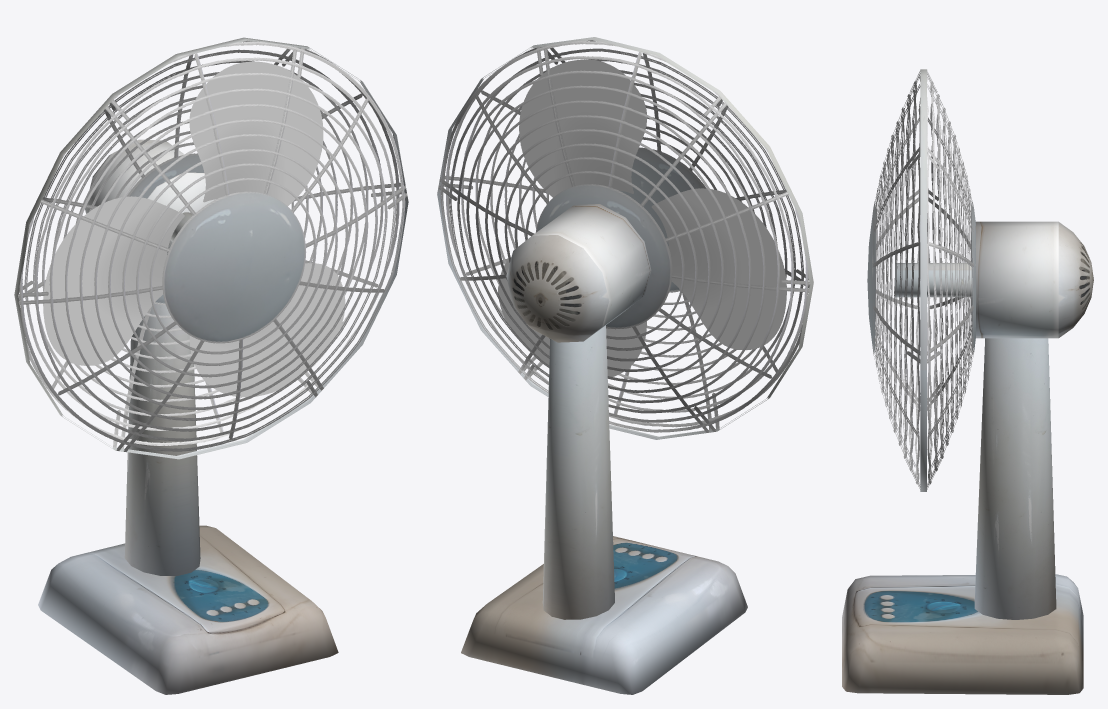
Rendered from fan_des.FBX.
3 views of the same model, side by side, from view 1: azimuth 30°, elevation 25°; view 2: azimuth 150°, elevation 25°; view 3: azimuth 270°, elevation 25° (orthographic). The views are drawn at different scales.
Parts seen in each view (by area): view 1: Object, Box003, Box004, OilTank004, Cylinder003, OilTank003; view 2: OilTank004, Box003, Box004, Cylinder003, Object, OilTank003; view 3: Box004, Cylinder003, OilTank004, OilTank003, Object, Cylinder004.
Boxes of the visible parts, bbox=[...] form: Object: bbox=[17, 41, 407, 451]; Box003: bbox=[43, 61, 345, 397]; Box004: bbox=[38, 525, 338, 694]; OilTank004: bbox=[14, 37, 408, 459]; Cylinder003: bbox=[124, 304, 200, 575]; OilTank003: bbox=[85, 139, 215, 254]; OilTank004: bbox=[437, 37, 813, 439]; Box003: bbox=[498, 59, 786, 376]; Box004: bbox=[461, 536, 747, 694]; Cylinder003: bbox=[542, 325, 614, 619]; Object: bbox=[442, 40, 809, 429]; OilTank003: bbox=[506, 204, 651, 342]; Box004: bbox=[842, 574, 1083, 694]; Cylinder003: bbox=[974, 338, 1056, 619]; OilTank004: bbox=[920, 69, 975, 491]; OilTank003: bbox=[975, 221, 1093, 338]; Object: bbox=[867, 71, 920, 489]; Cylinder004: bbox=[895, 263, 972, 297].
Size of the model in its own units: 22.67 by 33.06 by 13.45.
Materials: 1 (1 with a texture image).
